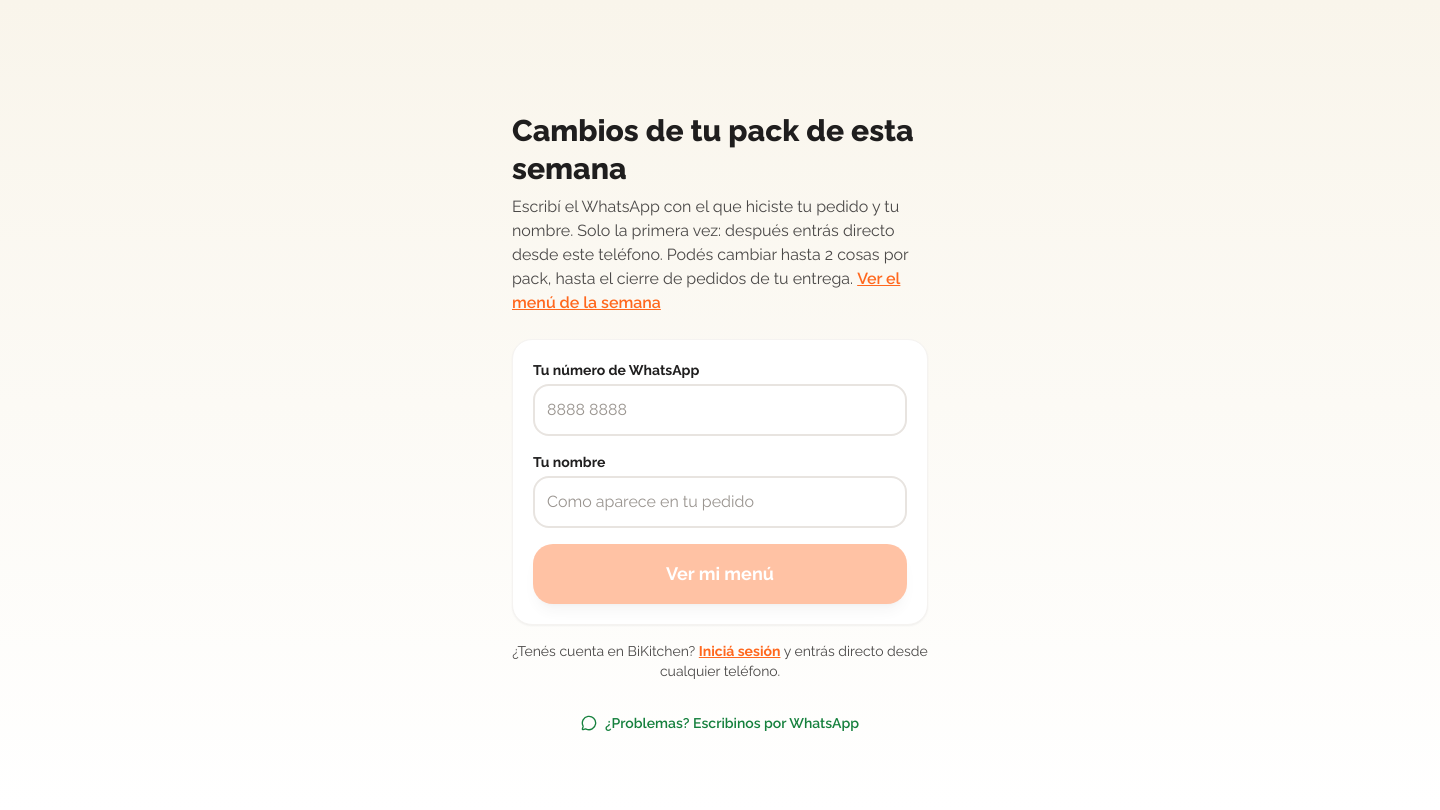
Test case: el link fijo /cambios › si no lo encuentra, lo dice sin mostrar nada de nadie
Type "8811 2233" into the field labelled "Tu número de WhatsApp" at (720, 410), box left=533, top=384, right=907, bottom=436
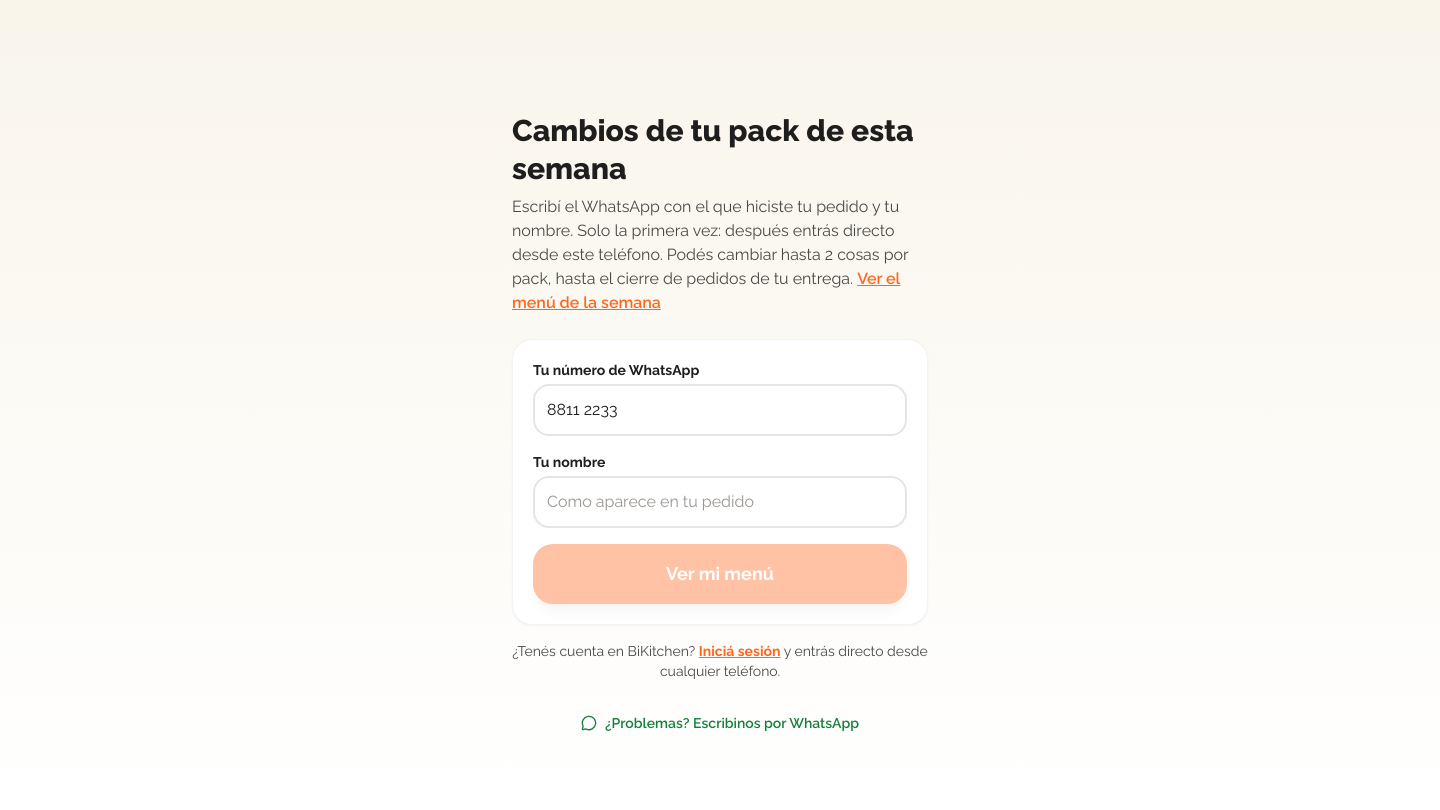
Type "Pedro" into the field labelled "Tu nombre" at (720, 502), box left=533, top=476, right=907, bottom=528
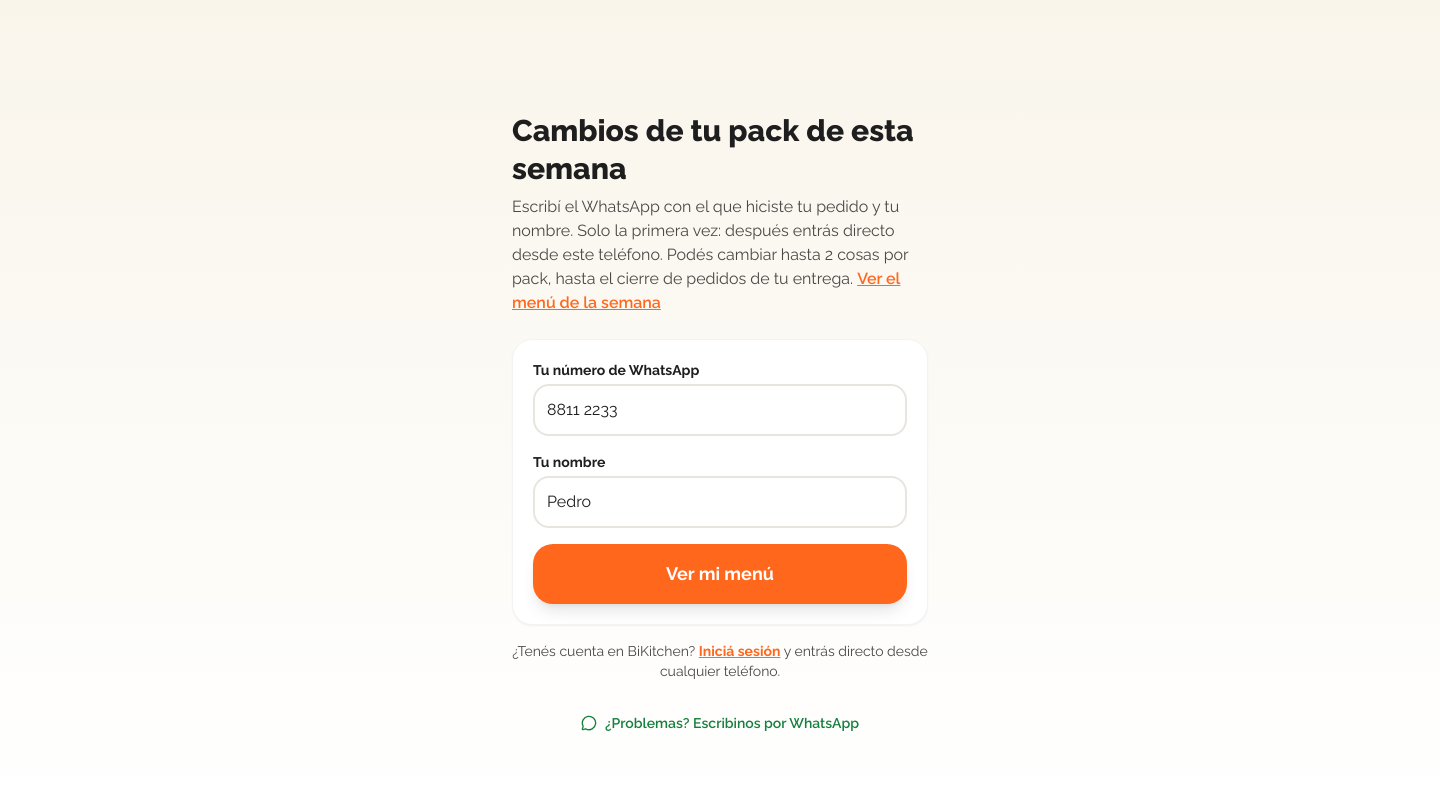
Click the button "Ver mi menú" at (720, 574), box left=533, top=544, right=907, bottom=604
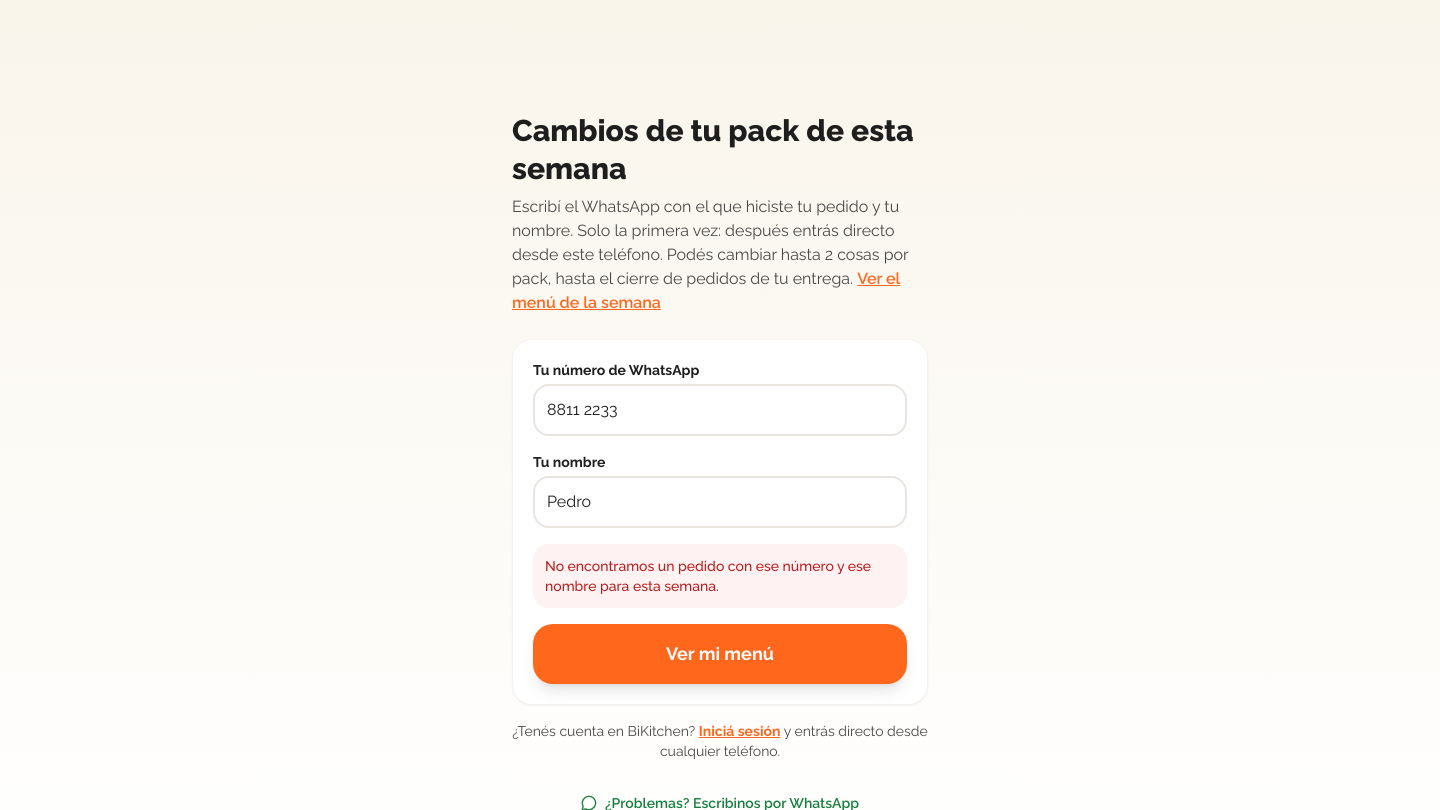
Expected: the message shows "No encontramos", left=545, top=558, right=871, bottom=594
